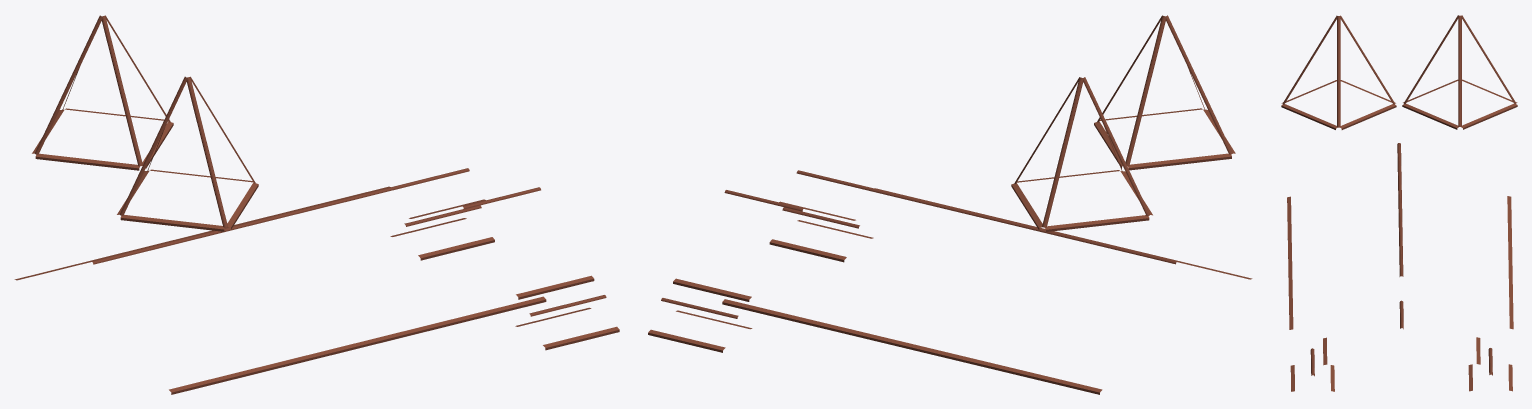
3 renders of one model, left to right at view 1: azimuth 30°, elevation 25°; view 2: azimuth 150°, elevation 25°; view 3: azimuth 270°, elevation 25°, orthographic. The views are drawn at different scales.
Parts seen in each view (by area): view 1: detail; view 2: detail; view 3: detail.
Part boxes in pixels (x1,y1,x2,y2): detail: [14, 15, 619, 394]; detail: [648, 15, 1252, 394]; detail: [1281, 15, 1517, 391].
Bounding box in the file's own units: 32.03 × 21.55 × 19.31.
